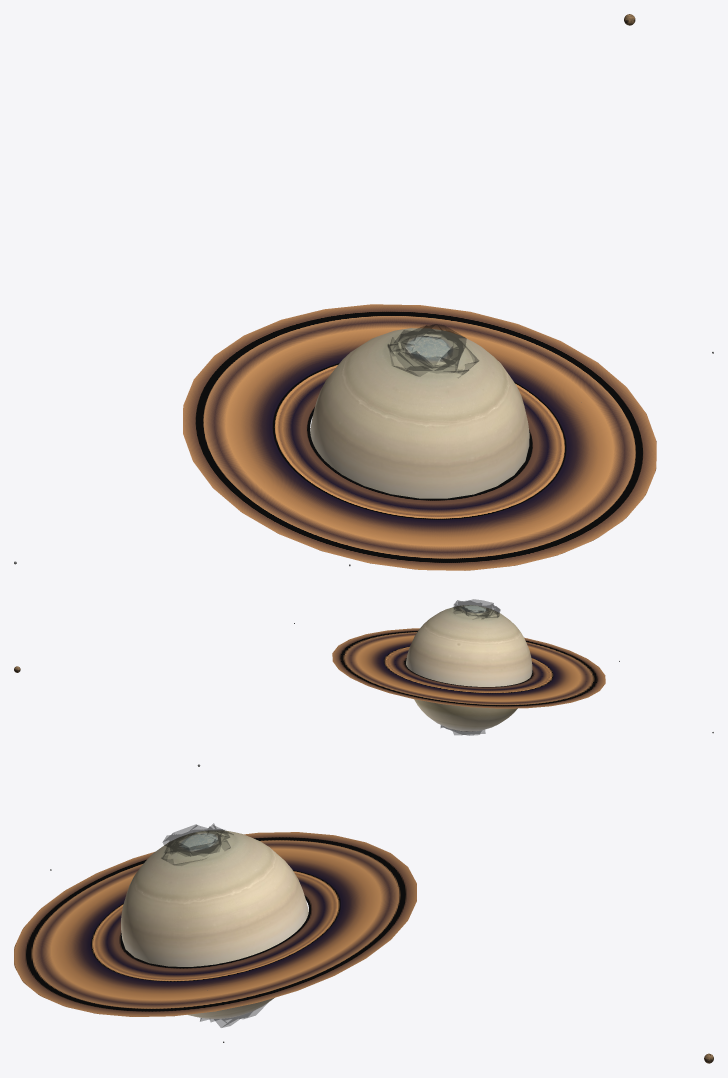
Rendered from saturn.obj.
The picture shows the model from 3 angles, top to bottom: view 1: azimuth 30°, elevation 25°; view 2: azimuth 150°, elevation 25°; view 3: azimuth 270°, elevation 25°; orthographic projection. The views are drawn at different scales.
Visible parts, largest first — view 1: Rings, Saturn, Corona_borealis_north; view 2: Rings, Saturn, Corona_borealis_north; view 3: Rings, Saturn, Corona_borealis_north.
Boxes of the visible parts, <box> form: Rings: <box>183,304,656,570</box>; Saturn: <box>310,328,529,498</box>; Corona_borealis_north: <box>387,324,478,377</box>; Rings: <box>332,628,605,708</box>; Saturn: <box>406,605,532,731</box>; Corona_borealis_north: <box>453,599,500,618</box>; Rings: <box>14,832,416,1016</box>; Saturn: <box>121,830,308,1018</box>; Corona_borealis_north: <box>161,823,233,865</box>.
Bounding box in the file's own units: 111 × 24.6 × 85.09.
Materials: 7 (5 with a texture image).
